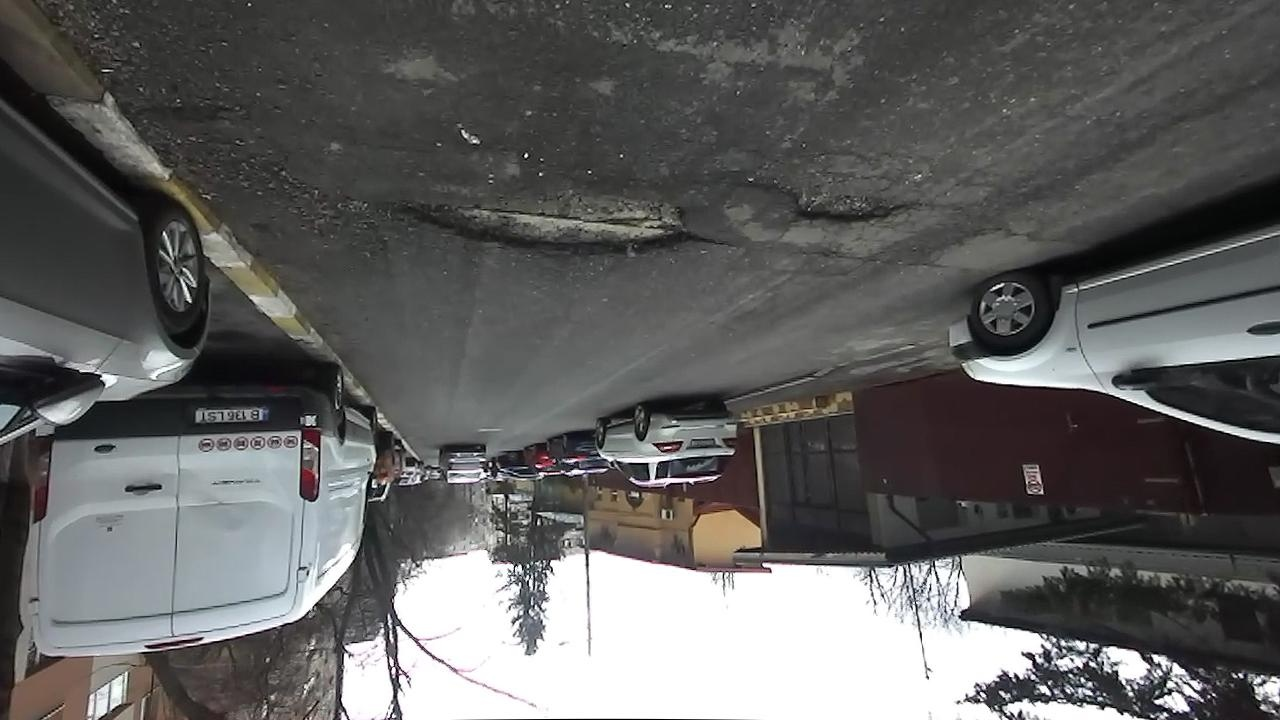pothole: (377, 183, 730, 267), (759, 176, 918, 227)
